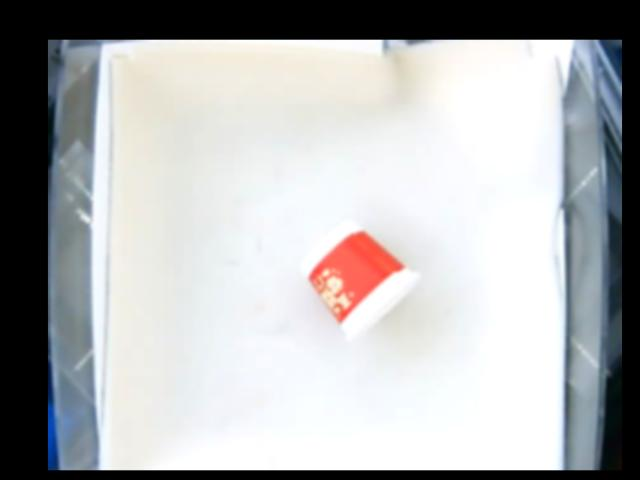Cup: (301, 220, 419, 336)
